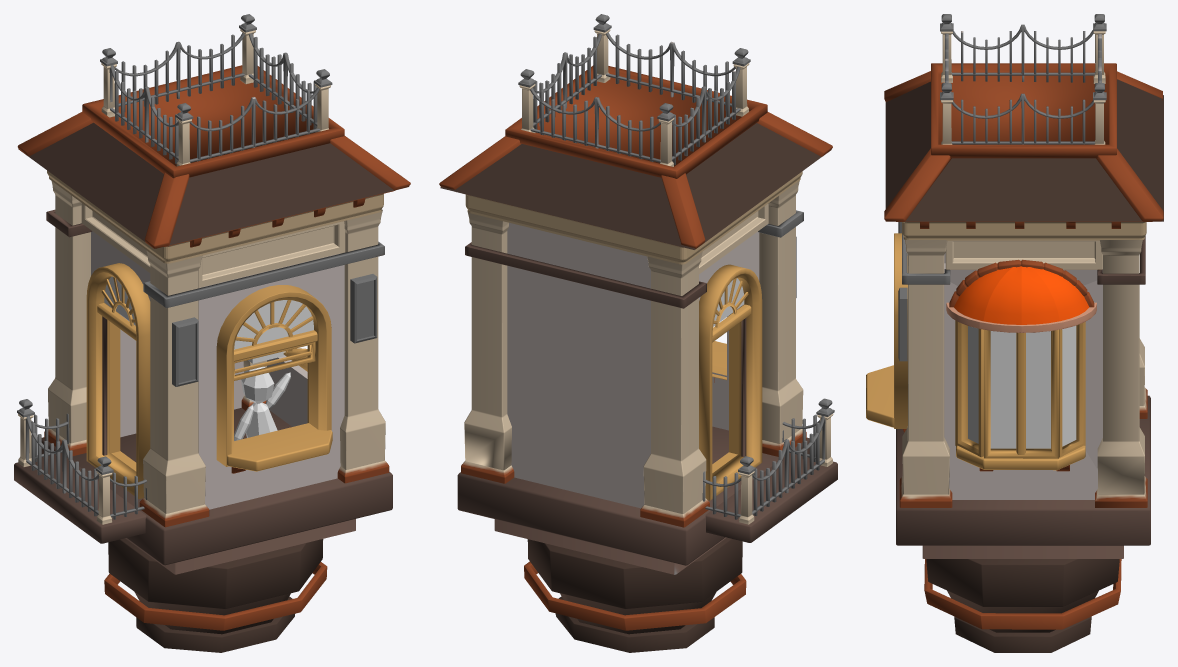
File: cafe.CAMVBIOTEXTURE2.glb
The picture shows the model from 3 angles, left to right: view 1: azimuth 30°, elevation 25°; view 2: azimuth 150°, elevation 25°; view 3: azimuth 270°, elevation 25°; orthographic projection.
Parts seen in each view (by area): view 1: mesh_teto.004, mesh_pillars.001, mesh_wall_main, mesh_floor, mesh_motor, mesh_wall_door, mesh_wall_main.001, mesh_floor.001, mesh_pillars.002, mesh_pillars, mesh_char_low, mesh_wall_left.003 (+3 smaller); view 2: mesh_teto.004, mesh_pillars, mesh_pillars.001, mesh_floor, mesh_motor, mesh_wall_door, mesh_floor.001, mesh_wall_main; view 3: mesh_teto.004, mesh_wall_left.003, mesh_pillars.001, mesh_motor, mesh_floor, mesh_glass_left, mesh_wall_main.001, mesh_wall_main, mesh_pillars, mesh_pillars.002, mesh_linkedin_low.
Boxes of the visible parts, box(x1,y1,x2,y2) form: mesh_teto.004: box(17, 14, 410, 263); mesh_pillars.001: box(44, 181, 389, 527); mesh_wall_main: box(198, 221, 345, 509); mesh_floor: box(14, 399, 392, 574); mesh_motor: box(104, 538, 327, 652); mesh_wall_door: box(81, 203, 150, 498); mesh_wall_main.001: box(216, 285, 331, 466); mesh_floor.001: box(25, 413, 147, 519); mesh_pillars.002: box(143, 241, 384, 308); mesh_pillars: box(46, 209, 244, 437); mesh_char_low: box(234, 365, 290, 440); mesh_wall_left.003: box(267, 348, 307, 426); mesh_teto.004: box(439, 14, 832, 264); mesh_pillars: box(465, 222, 706, 508); mesh_pillars.001: box(461, 180, 806, 527); mesh_floor: box(457, 398, 837, 574); mesh_motor: box(524, 537, 746, 652); mesh_wall_door: box(699, 204, 768, 500); mesh_floor.001: box(702, 414, 825, 519); mesh_wall_main: box(712, 316, 728, 430); mesh_teto.004: box(884, 14, 1163, 240); mesh_wall_left.003: box(944, 240, 1102, 499); mesh_pillars.001: box(899, 240, 1147, 507); mesh_motor: box(924, 559, 1121, 652); mesh_floor: box(896, 395, 1150, 558); mesh_glass_left: box(968, 325, 1076, 448); mesh_wall_main.001: box(894, 233, 907, 428); mesh_wall_main: box(866, 365, 906, 432); mesh_pillars: box(1097, 236, 1145, 284); mesh_pillars.002: box(902, 234, 950, 284); mesh_linkedin_low: box(898, 287, 907, 361).
Size of the model in its own units: 0.533 by 0.9461 by 0.4467.
Materials: 2 (1 with a texture image).
